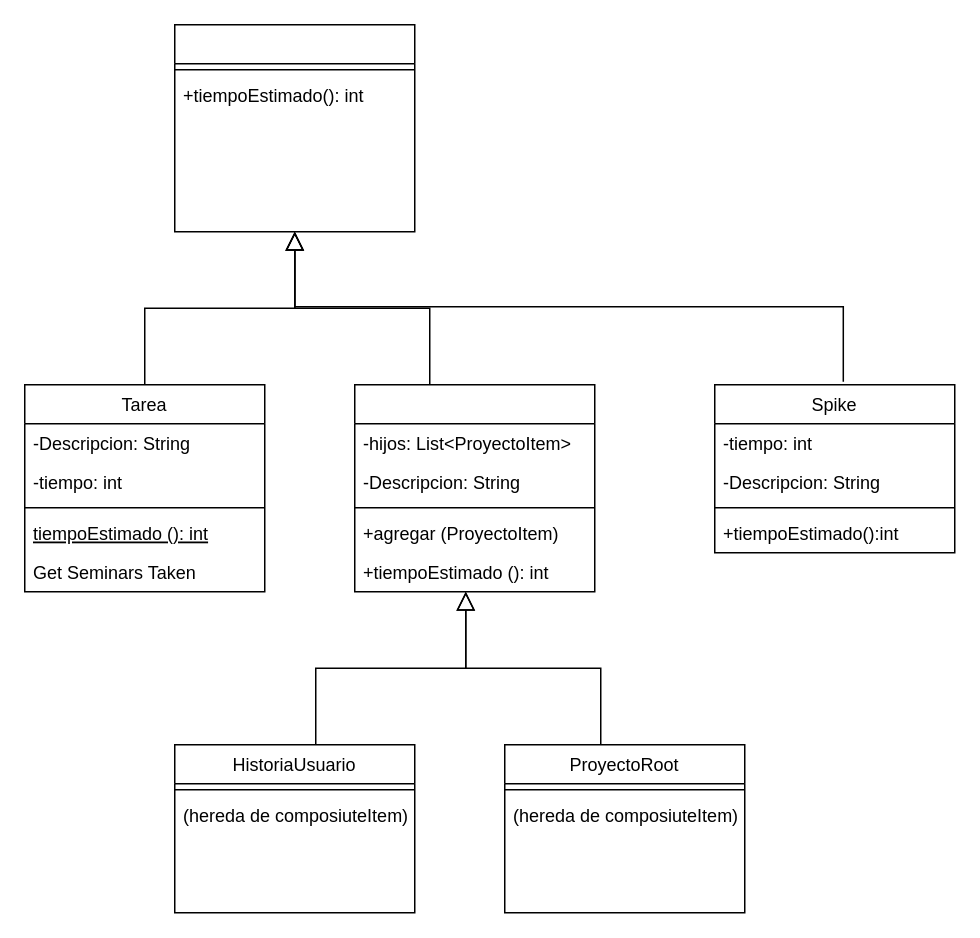
Some shapes in this 980 by 938 pixel diagram are drawn without their labels. Here are the shapes that lost their labels. From the top down, the box of each, then its label:
(173, 23, 415, 232): ProyectoItem
(353, 383, 595, 592): CompositeItem
